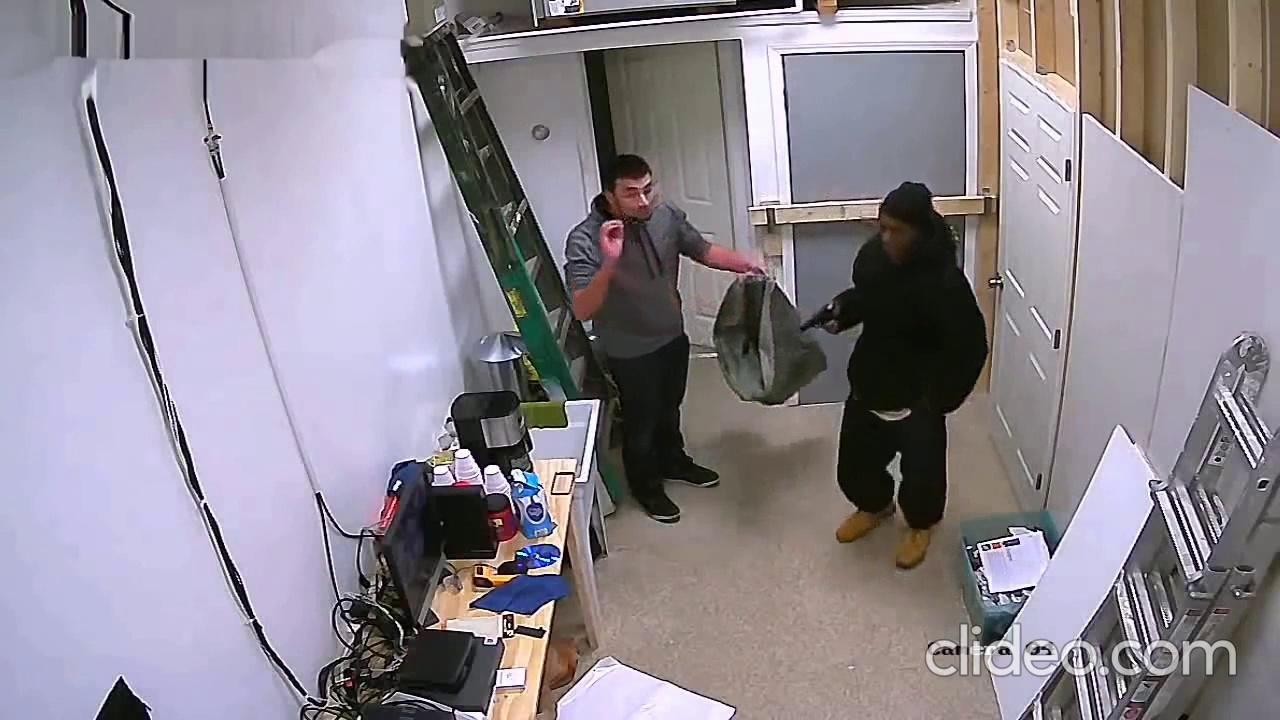person: (561, 150, 776, 526), (820, 178, 988, 571)
pistol: (801, 302, 848, 338)
